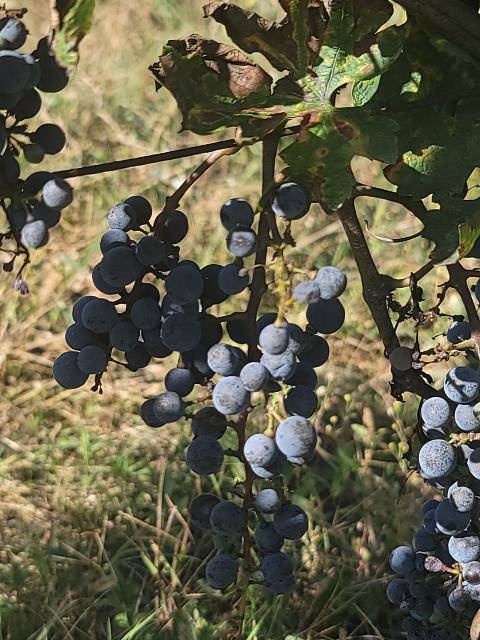grapes: (186, 225, 346, 594), (52, 196, 204, 389), (386, 366, 480, 638)
